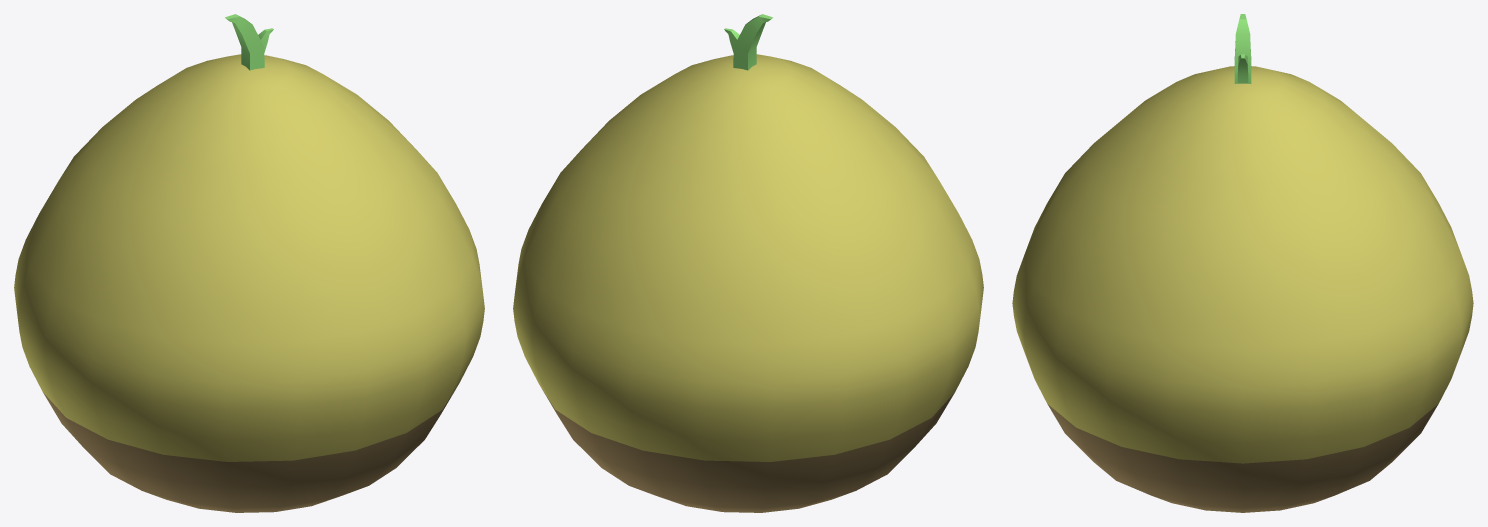
The model's file is Seed.fbx.
3 renders of one model, left to right at view 1: azimuth 30°, elevation 25°; view 2: azimuth 150°, elevation 25°; view 3: azimuth 270°, elevation 25°, orthographic. The views are drawn at different scales.
Visible parts, largest first — view 1: Seed; view 2: Seed; view 3: Seed.
Boxes of the visible parts, box(x1,y1,x2,y2) form: Seed: box(14, 14, 484, 512); Seed: box(513, 14, 983, 512); Seed: box(1012, 14, 1473, 512).
Bounding box in the file's own units: 1.17 × 1.26 × 1.17.
